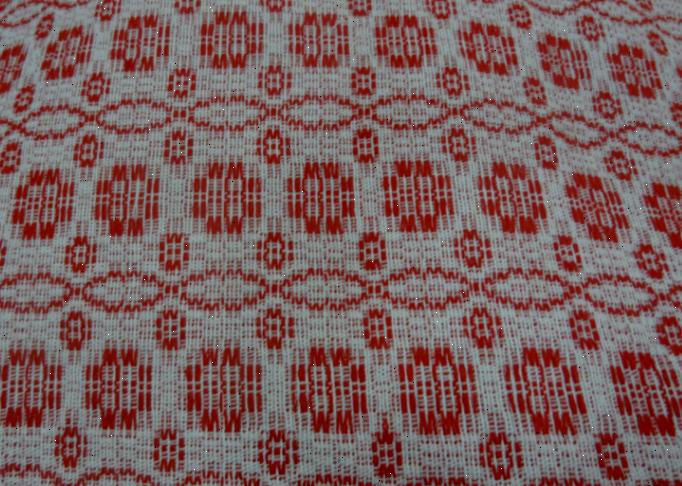malong: (0, 3, 682, 486)
